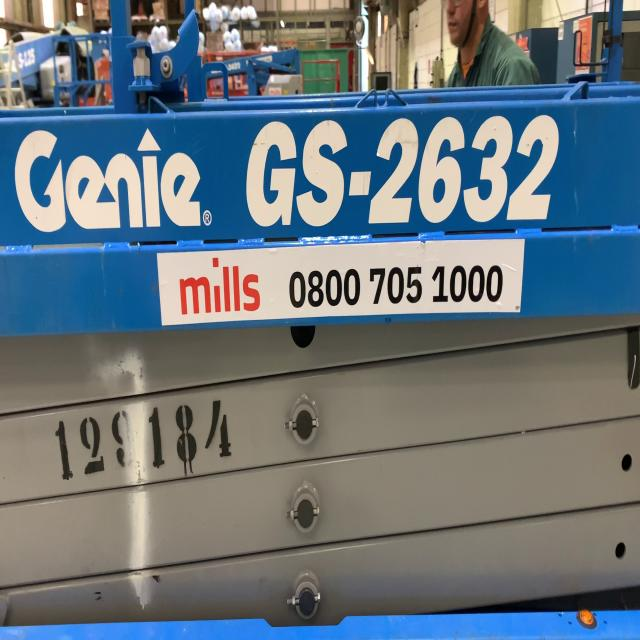Adesivo Longo: (153, 234, 528, 330)
